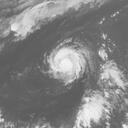cyclone: (48, 43, 86, 85)
